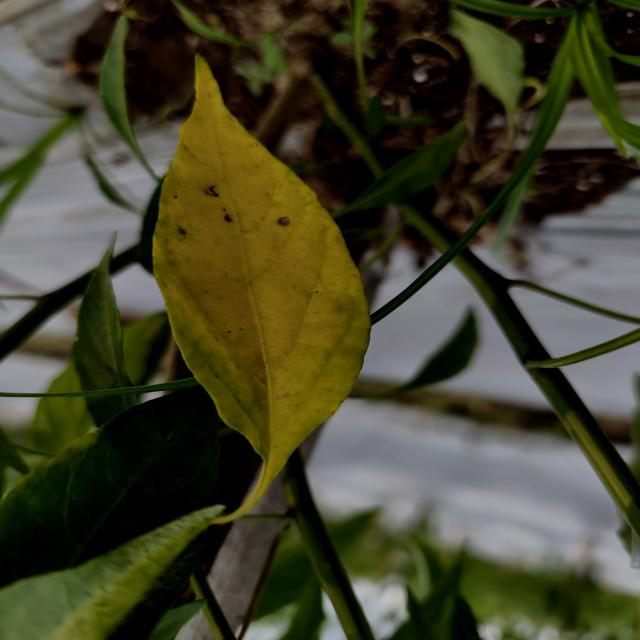Virus Kuning: (150, 56, 374, 466)
